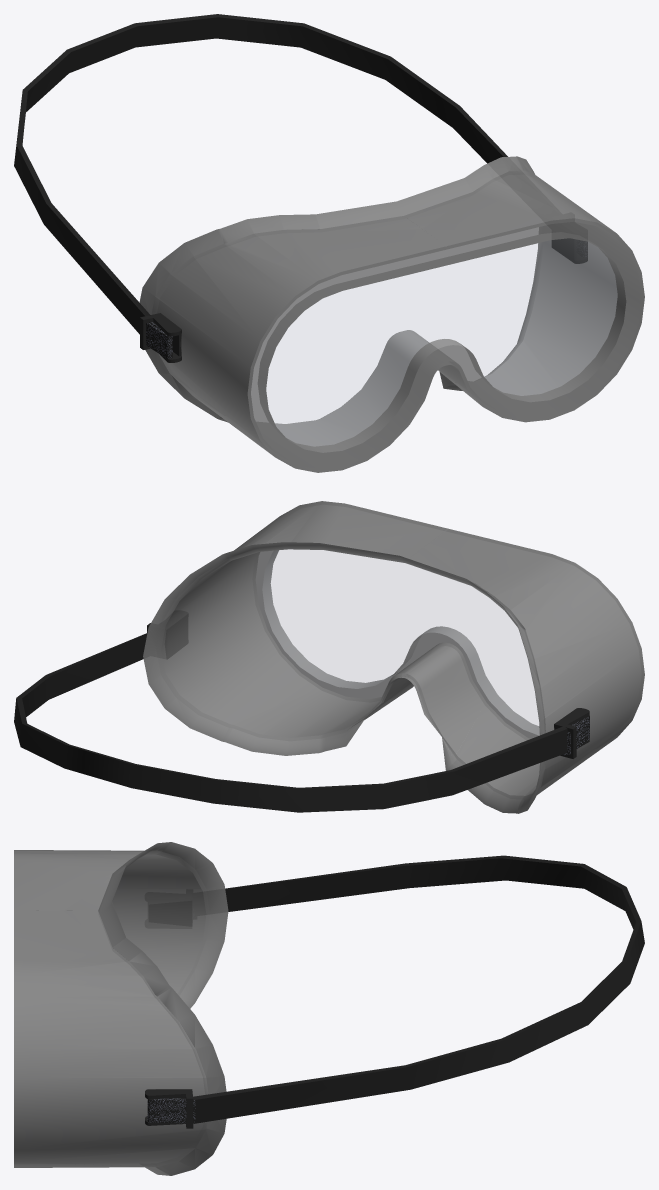
The model's file is SafetyGoggles.fbx.
3 renders of one model, top to bottom at view 1: azimuth 30°, elevation 25°; view 2: azimuth 150°, elevation 25°; view 3: azimuth 270°, elevation 25°, orthographic.
Visible parts, largest first — view 1: Group3, Group6, Group5, Group_10_2; view 2: Group3, Group6, Group4, Group5, Group_10_2; view 3: Group3, Group6, Group_10_1, Group5, Group4.
Part boxes in pixels (x1,y1,x2,y2): Group3: (139,156,644,472); Group6: (14,14,507,334); Group5: (140,313,181,362); Group_10_2: (146,322,172,358); Group3: (143,501,644,813); Group6: (14,633,567,812); Group4: (147,614,188,658); Group5: (554,708,589,758); Group_10_2: (563,715,589,755); Group3: (14,842,228,1175); Group6: (193,855,644,1123); Group_10_1: (147,1098,195,1123); Group5: (149,901,191,926); Group4: (145,1089,193,1128).
Bounding box in the file's own units: 0.1836 × 0.0879 × 0.2337.
